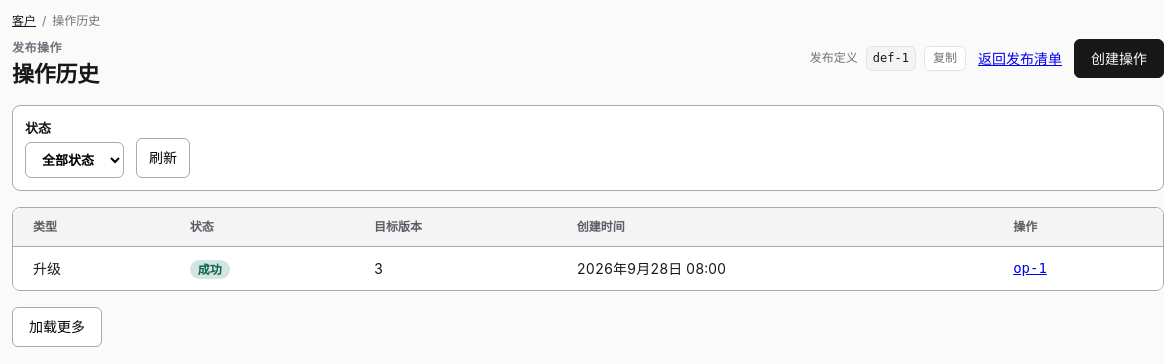
OperationListPage › appends the next page through the cursor
What coordinates should you click on to do the following:
click the button with class "operation-list__more"
I would click on:
 (57, 327)
Its box is [12,307,102,347].
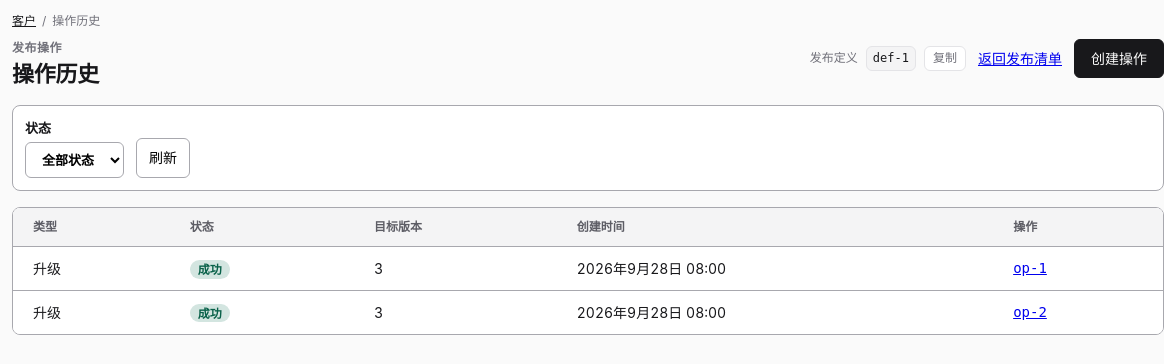
Expected: the row with test id "operation-row-op-1" is shown, [13,247,1163,291]
Now the row with test id "operation-row-op-2" is shown, box [13,291,1163,334]
Now the text "加载更多" is gone
